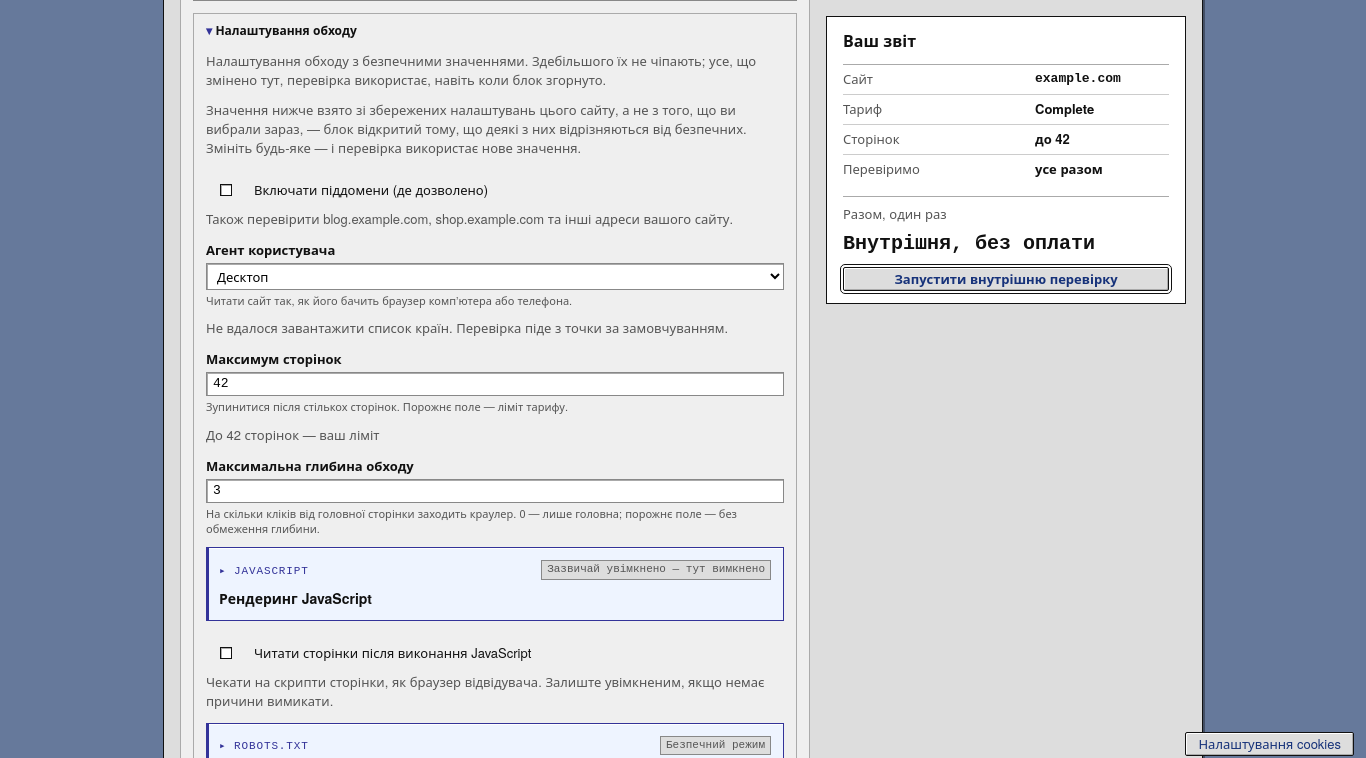
a page count the API would refuse › names the mistake in the language the form is read in
The image size is (1366, 758).
(page scrolled)
Replace the text in the number field labelled "Максимум сторінок" with "0" at (495,384), box [206, 372, 784, 396]
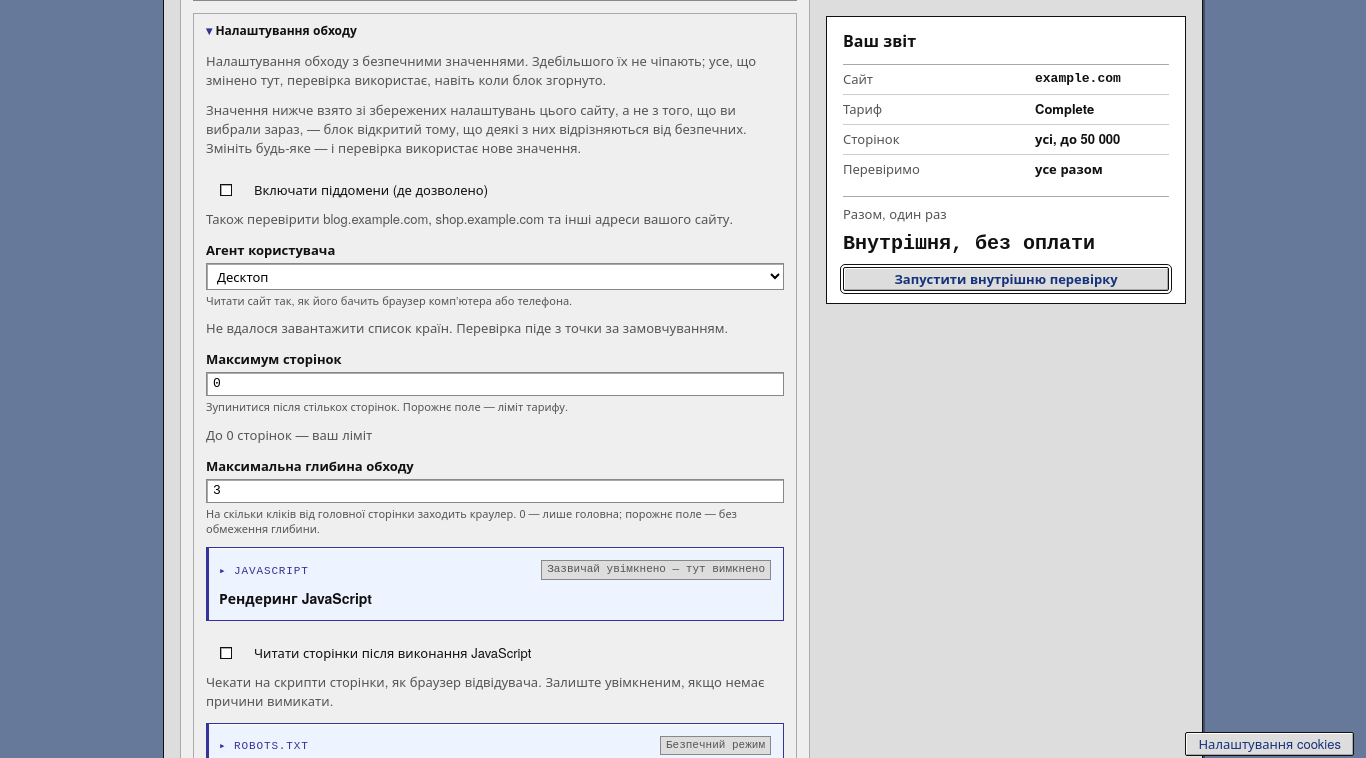
Click the button "Запустити внутрішню перевірку" at (1006,278), box [843, 266, 1169, 290]
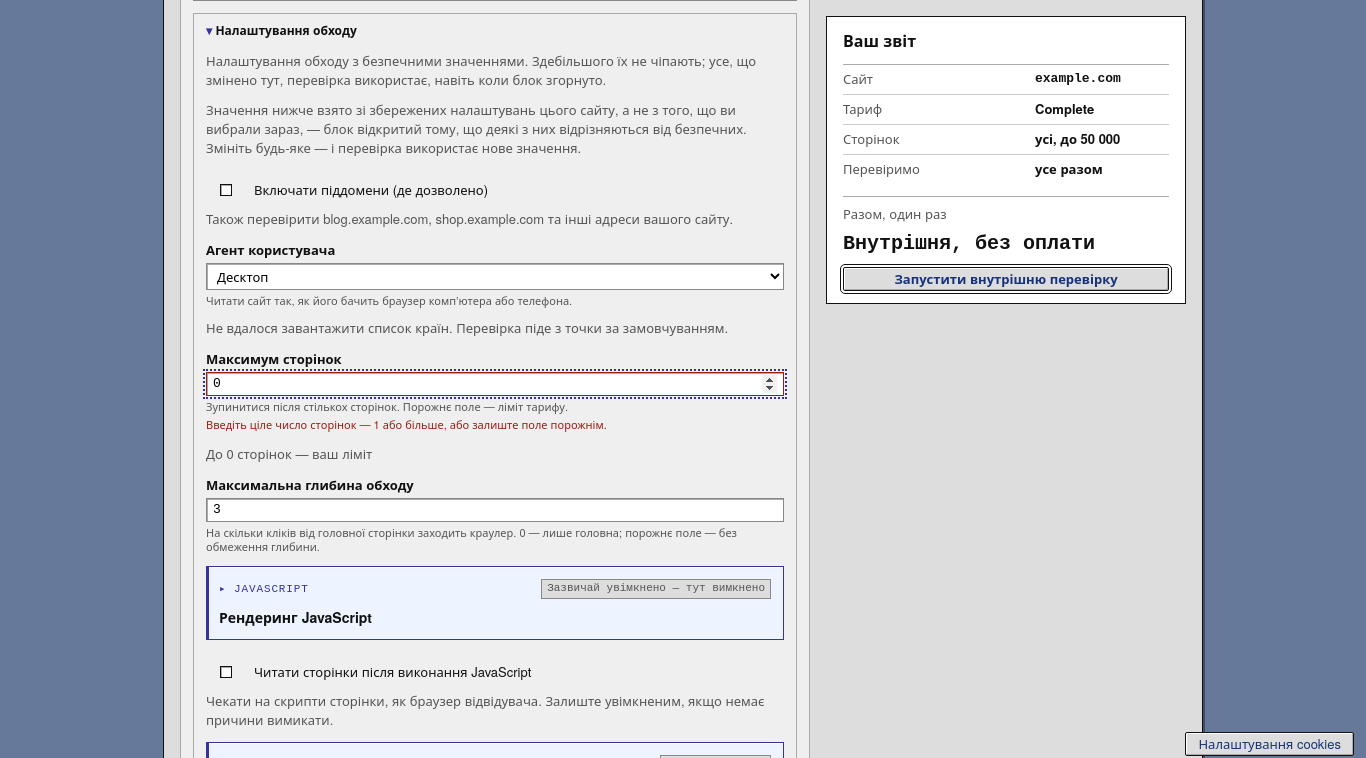
Expected: the message shows "Введіть ціле число сторінок", [206, 416, 607, 432]
